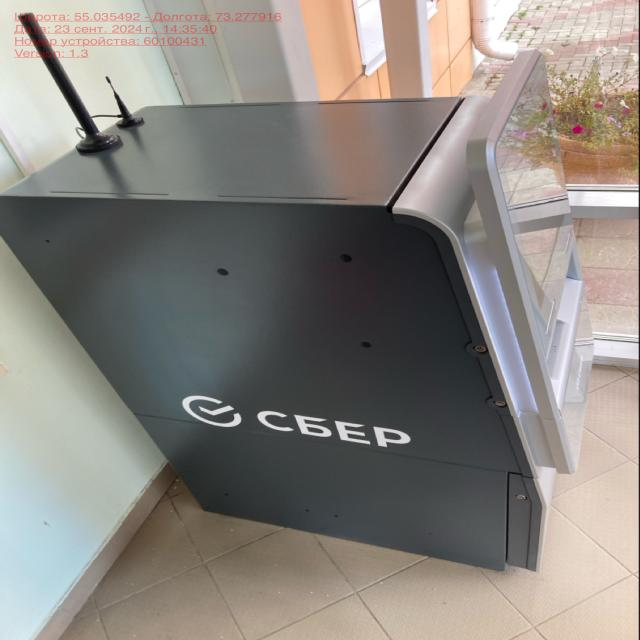bank: (0, 50, 593, 573)
